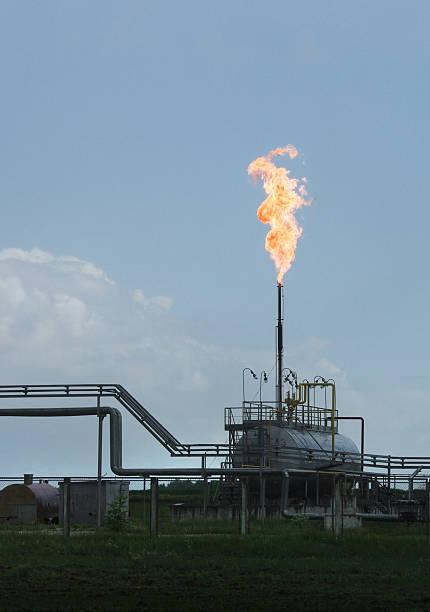Fire: (238, 143, 324, 276)
